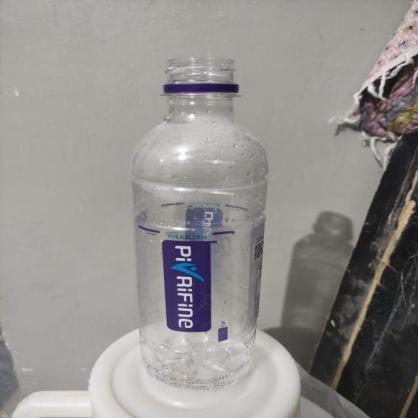bottle: (132, 40, 272, 396)
label: (130, 205, 266, 351)
